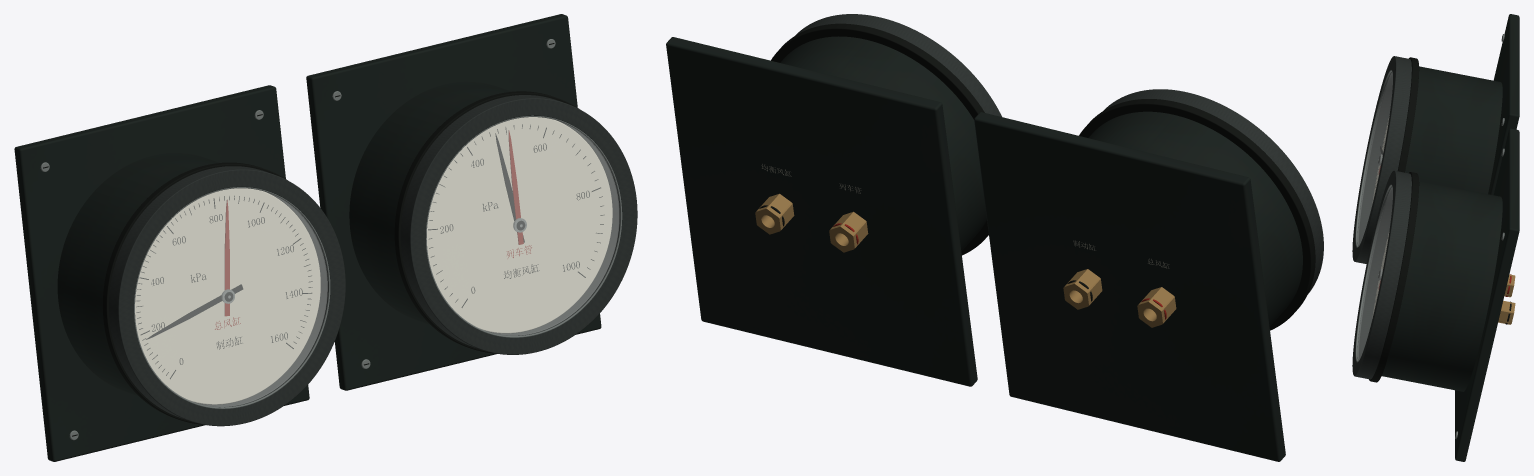
File: duplex_air_gauges_final.glb
The picture shows the model from 3 angles, left to right: view 1: azimuth 30°, elevation 25°; view 2: azimuth 150°, elevation 25°; view 3: azimuth 270°, elevation 25°; orthographic projection. The views are drawn at different scales.
Parts seen in each view (by area): view 1: MR_BC_Glass, BP_ER_Glass, MR_BC_Panel, BP_ER_Dial, MR_BC_Dial, BP_ER_Panel, MR_BC_Black_Bezel, BP_ER_Black_Bezel, BP_ER_SteelCase, MR_BC_SteelCase, MR_BC_Rubber_Seat, BP_ER_Rubber_Seat (+2 smaller); view 2: MR_BC_Panel, BP_ER_Panel, MR_BC_SteelCase, BP_ER_SteelCase, MR_BC_Rubber_Seat, MR_BC_Black_Bezel, BP_ER_Rubber_Seat, BP_ER_Black_Bezel, BP_ER_RearSocket_Black, BP_ER_RearSocket_Red, MR_BC_RearSocket_Black, MR_BC_RearSocket_Red; view 3: BP_ER_SteelCase, MR_BC_SteelCase, BP_ER_Black_Bezel, BP_ER_Panel, MR_BC_Black_Bezel, MR_BC_Panel, BP_ER_Glass, MR_BC_Glass, BP_ER_Rubber_Seat, MR_BC_Rubber_Seat, BP_ER_Steel_Inner_Lip, MR_BC_Steel_Inner_Lip (+1 smaller).
Boxes of the visible parts, box(x1,y1,x2,y2) form: MR_BC_Glass: box(135, 188, 327, 406); BP_ER_Glass: box(427, 117, 619, 335); MR_BC_Panel: box(14, 85, 309, 461); BP_ER_Dial: box(427, 117, 612, 333); MR_BC_Dial: box(135, 188, 320, 404); BP_ER_Panel: box(306, 14, 601, 390); MR_BC_Black_Bezel: box(109, 166, 345, 426); BP_ER_Black_Bezel: box(400, 95, 637, 354); BP_ER_SteelCase: box(349, 81, 511, 330); MR_BC_SteelCase: box(57, 153, 219, 402); MR_BC_Rubber_Seat: box(102, 162, 302, 424); BP_ER_Rubber_Seat: box(394, 91, 598, 353); MR_BC_Panel: box(974, 112, 1285, 461); BP_ER_Panel: box(666, 37, 977, 386); MR_BC_SteelCase: box(1088, 111, 1302, 326); BP_ER_SteelCase: box(780, 36, 986, 250); MR_BC_Rubber_Seat: box(1079, 99, 1315, 330); MR_BC_Black_Bezel: box(1103, 89, 1323, 293); BP_ER_Rubber_Seat: box(771, 23, 988, 255); BP_ER_Black_Bezel: box(795, 14, 1001, 116); BP_ER_RearSocket_Black: box(755, 193, 794, 234); BP_ER_RearSocket_Red: box(829, 211, 868, 252); MR_BC_RearSocket_Black: box(1063, 269, 1102, 309); MR_BC_RearSocket_Red: box(1137, 287, 1176, 327); BP_ER_SteelCase: box(1381, 181, 1502, 391); MR_BC_SteelCase: box(1405, 66, 1502, 193); BP_ER_Black_Bezel: box(1352, 170, 1411, 379); BP_ER_Panel: box(1455, 128, 1519, 461); MR_BC_Black_Bezel: box(1352, 56, 1411, 263); MR_BC_Panel: box(1488, 14, 1519, 195); BP_ER_Glass: box(1358, 187, 1392, 360); MR_BC_Glass: box(1358, 72, 1392, 245); BP_ER_Rubber_Seat: box(1369, 172, 1419, 382); MR_BC_Rubber_Seat: box(1397, 57, 1419, 172); BP_ER_Steel_Inner_Lip: box(1355, 184, 1392, 362); MR_BC_Steel_Inner_Lip: box(1355, 70, 1392, 247).
Bounding box in the file's own units: 0.282 × 0.1427 × 0.0924.
10 materials, 3 textured.
